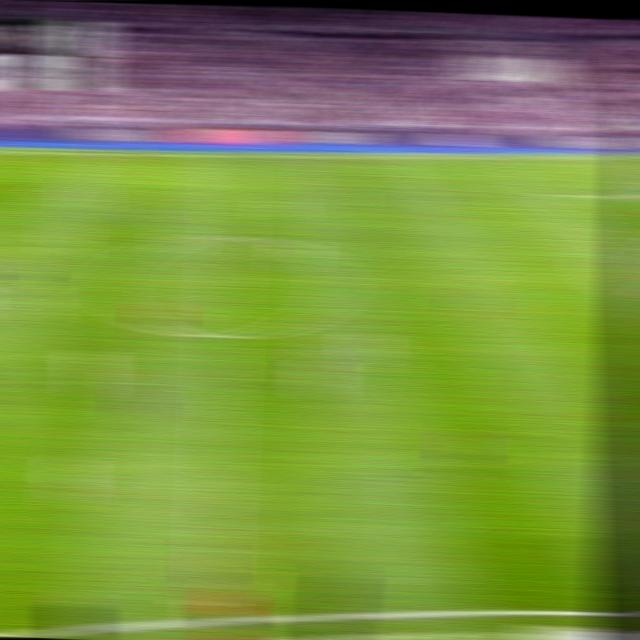bigarea_top_inner: (545, 189, 575, 203)
halfcircle_bottom: (205, 321, 240, 348)
halfcircle_top: (210, 224, 243, 246)
midline_bottom_intersection: (192, 610, 228, 631)
midline_top_intersection: (215, 148, 245, 162)
top_arc_area_intersection: (594, 234, 624, 248)
